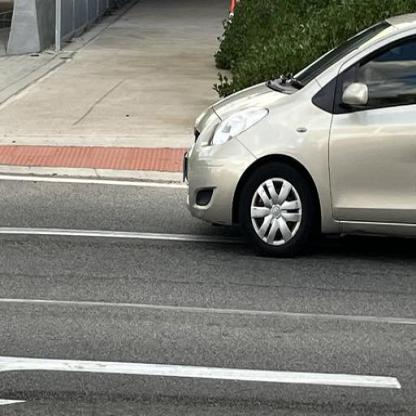Tire: (238, 161, 317, 260)
